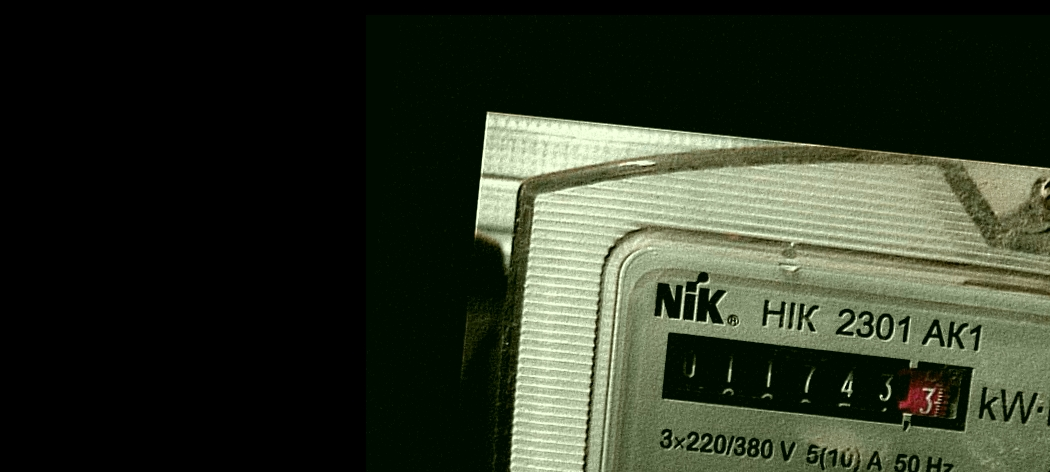0: (678, 346, 701, 383)
1: (761, 355, 779, 390), (724, 351, 738, 385)
3: (874, 369, 897, 406), (917, 386, 938, 420)
4: (837, 366, 858, 401)
7: (799, 361, 820, 396)
screen: (646, 320, 988, 447)
